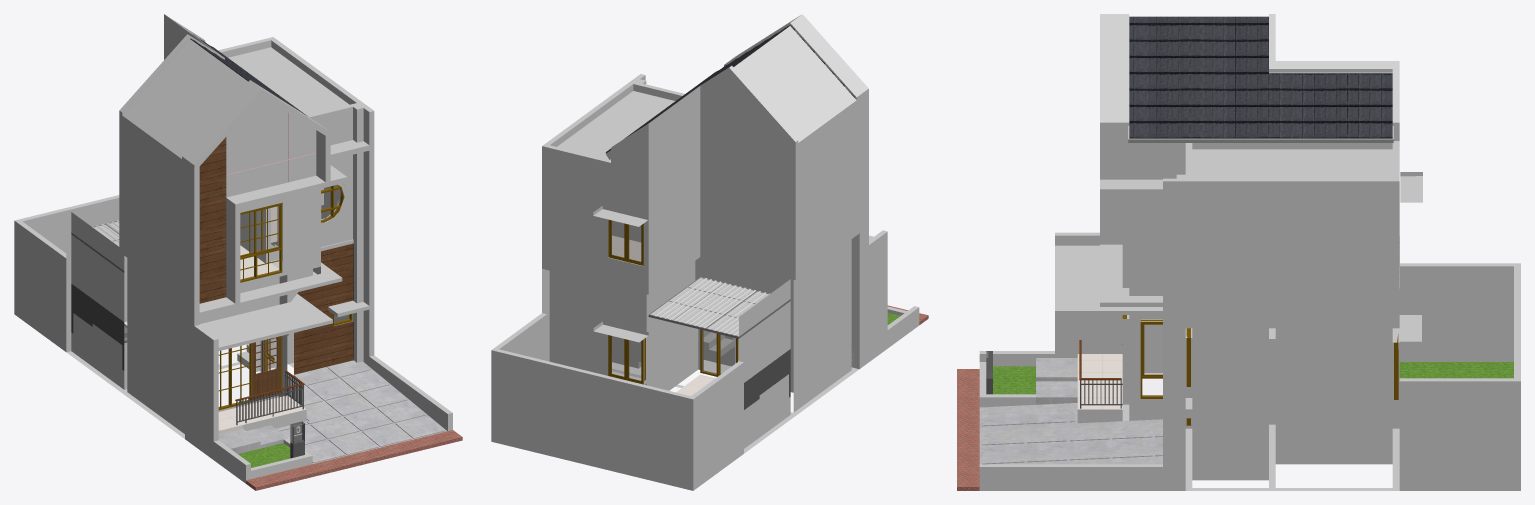
Rendered from okina-61.glb.
3 views of the same model, side by side, from view 1: azimuth 30°, elevation 25°; view 2: azimuth 150°, elevation 25°; view 3: azimuth 270°, elevation 25° (orthographic). The views are drawn at different scales.
Visible parts, largest first — view 1: ID19, ID643, ID450, ID356, ID128, ID543, ID912, ID172, ID237; view 2: ID19, ID4, ID356, ID128, ID730, ID237; view 3: ID19, ID237, ID643, ID172, ID543, ID356, ID128.
Part boxes in pixels (bbox=[...]): ID19: bbox=[14, 14, 452, 483]; ID643: bbox=[218, 360, 446, 463]; ID450: bbox=[199, 137, 353, 374]; ID356: bbox=[218, 184, 352, 410]; ID128: bbox=[71, 284, 303, 425]; ID543: bbox=[246, 430, 462, 490]; ID912: bbox=[252, 336, 280, 401]; ID172: bbox=[238, 443, 290, 467]; ID237: bbox=[190, 34, 307, 116]; ID19: bbox=[491, 14, 919, 490]; ID4: bbox=[611, 220, 735, 380]; ID356: bbox=[608, 219, 738, 384]; ID128: bbox=[744, 349, 790, 409]; ID730: bbox=[648, 277, 790, 338]; ID237: bbox=[606, 25, 854, 152]; ID19: bbox=[979, 14, 1520, 490]; ID237: bbox=[1129, 16, 1392, 138]; ID643: bbox=[979, 358, 1162, 464]; ID172: bbox=[993, 362, 1513, 394]; ID543: bbox=[957, 369, 979, 490]; ID356: bbox=[1122, 315, 1398, 425]; ID128: bbox=[1080, 380, 1122, 408].
Size of the model in its own units: 6.2 by 9.76 by 12.52.
Materials: 20 (11 with a texture image).
